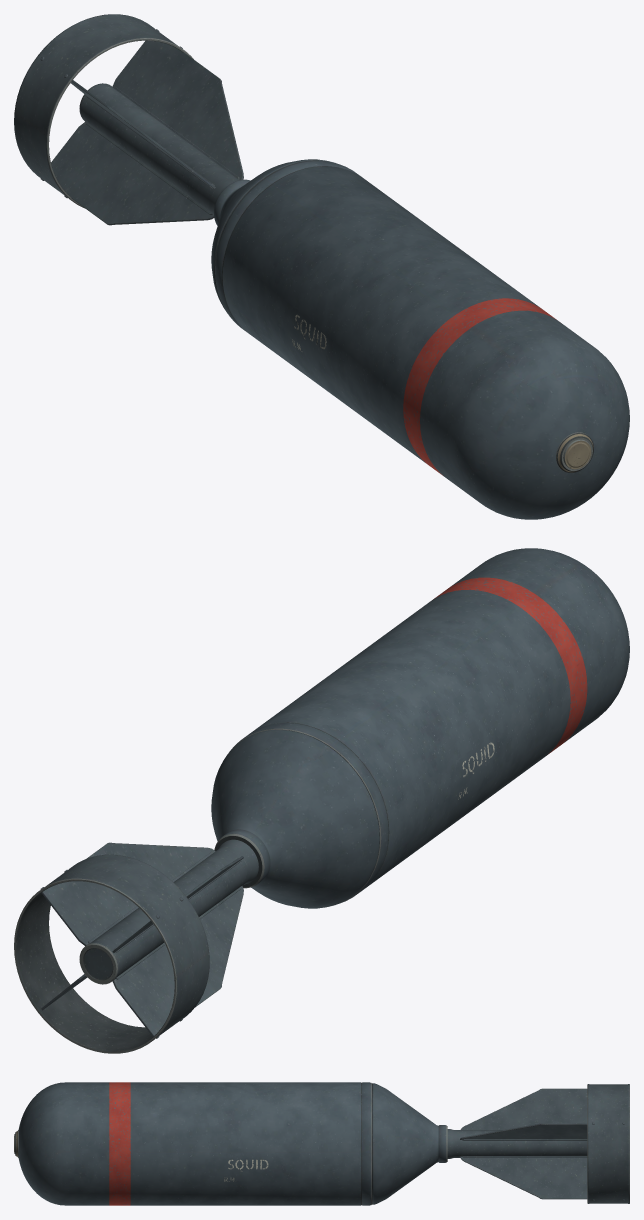
The model's file is squid.glb.
3 renders of one model, top to bottom at view 1: azimuth 30°, elevation 25°; view 2: azimuth 150°, elevation 25°; view 3: azimuth 270°, elevation 25°, orthographic. The views are drawn at different scales.
Parts seen in each view (by area): view 1: body, fins, fin_ring, tail_boom, tail_cone, nose_fuze, Fin root fillets; view 2: body, tail_cone, fin_ring, fins, tail_boom, Fin root fillets; view 3: body, fins, tail_cone, fin_ring, tail_boom, Fin root fillets, Squid stencil | port.
Part boxes in pixels (x1,y1,x2,y2): body: (215,160,629,519); fins: (51,40,243,225); fin_ring: (14,14,193,208); tail_boom: (79,83,238,214); tail_cone: (211,159,335,313); nose_fuze: (556,432,593,472); Fin root fillets: (86,87,239,214); body: (229,548,629,903); tail_cone: (211,729,379,908); fin_ring: (14,854,209,1053); fins: (41,842,243,1036); tail_boom: (79,839,258,984); Fin root fillets: (88,851,241,979); body: (18,1082,371,1205); fins: (460,1088,587,1199); tail_cone: (372,1083,447,1204); fin_ring: (587,1084,629,1203); tail_boom: (447,1129,587,1158); Fin root fillets: (462,1129,587,1157); Squid stencil | port: (228,1159,268,1171).
Bounding box in the file's own units: 0.3027 × 0.3 × 1.5.
7 materials, 7 textured.
